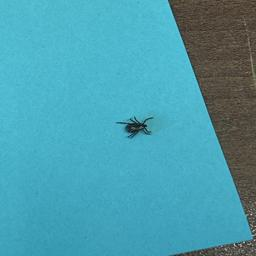Dermacentor variabilis: (116, 116, 155, 140)
